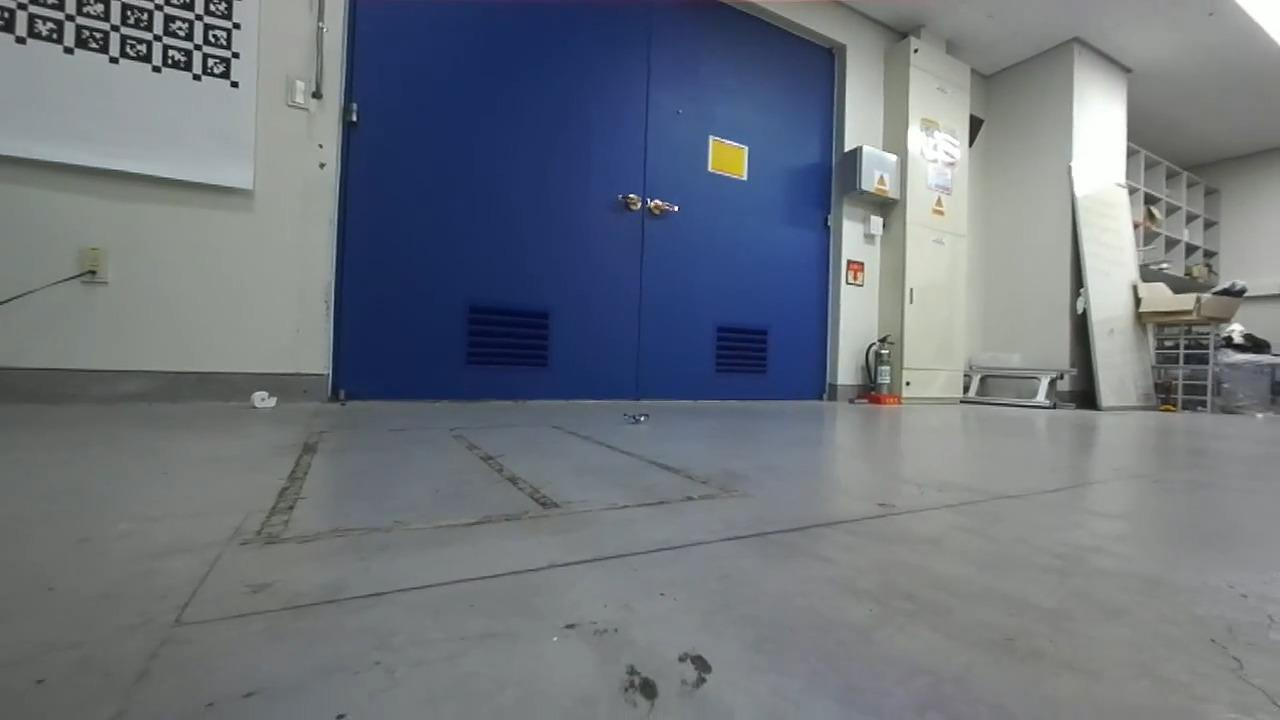crazyflie: (611, 405, 663, 432)
